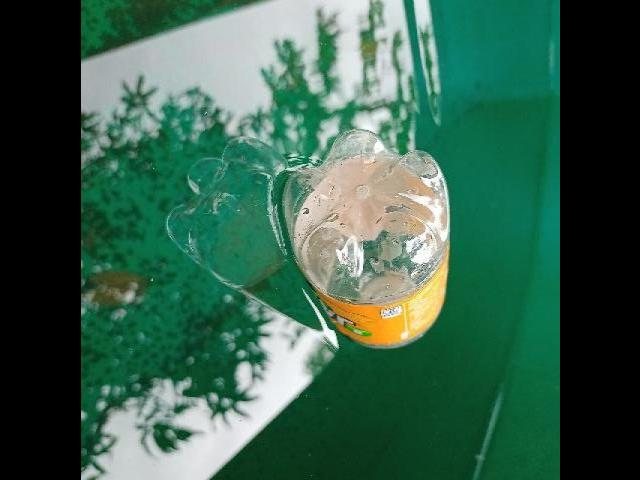Bottle: (270, 121, 458, 363)
